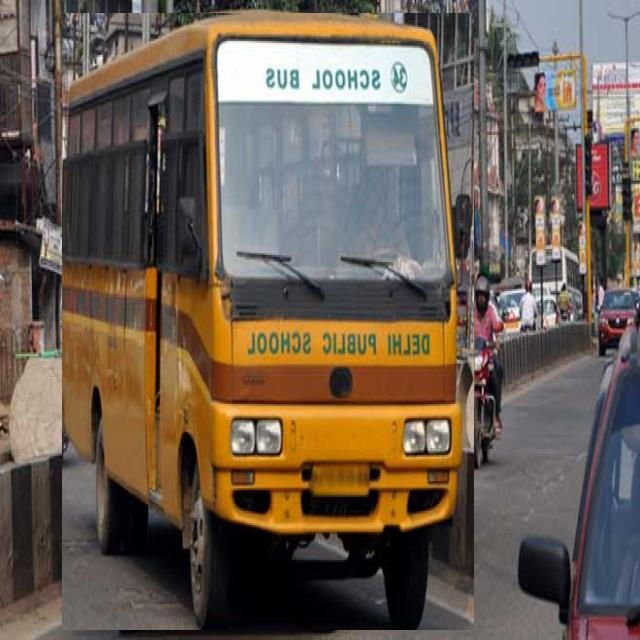bus: (62, 13, 474, 630)
